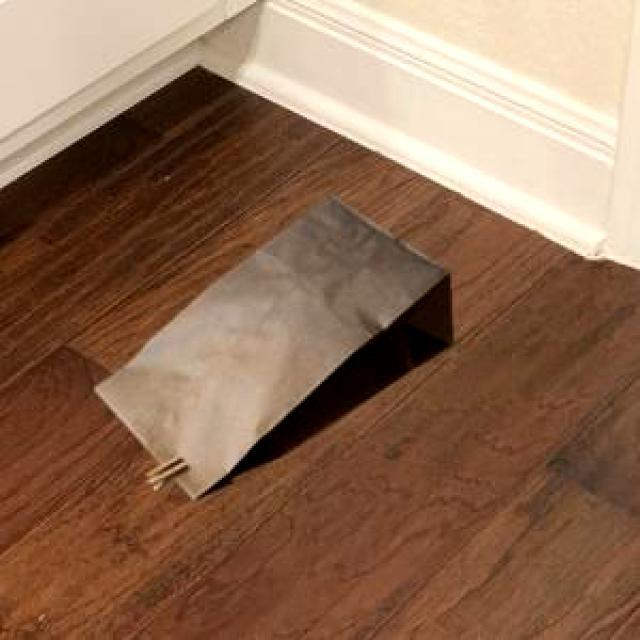Paper_Bag: (92, 193, 450, 496)
